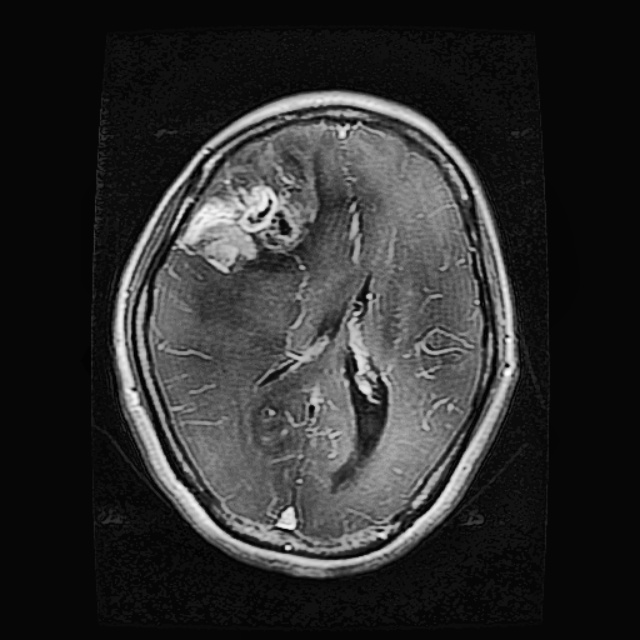Glioma: (177, 125, 318, 274)
